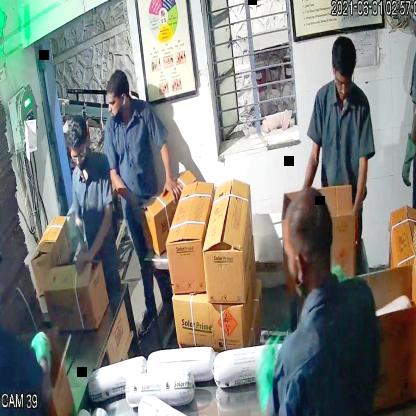goggles: (69, 142, 90, 170)
